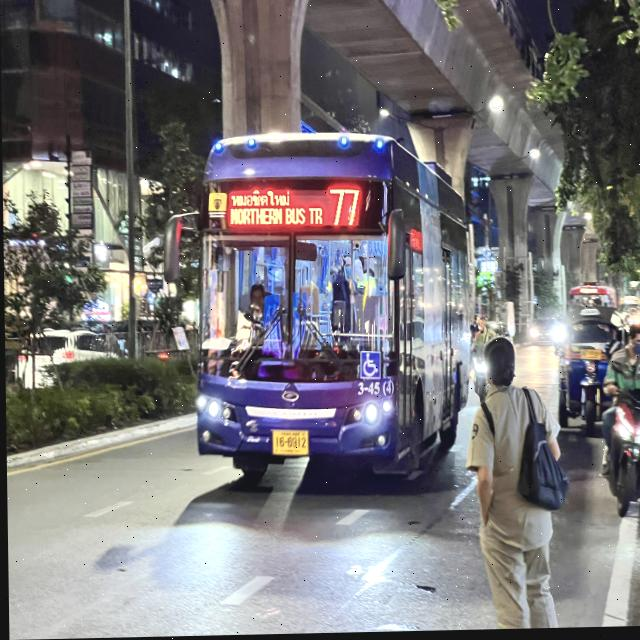Bus-Line-Number: (325, 188, 362, 230)
Destination-Sign-Normal: (225, 189, 324, 234)
TSB-Bus: (188, 127, 476, 487)
